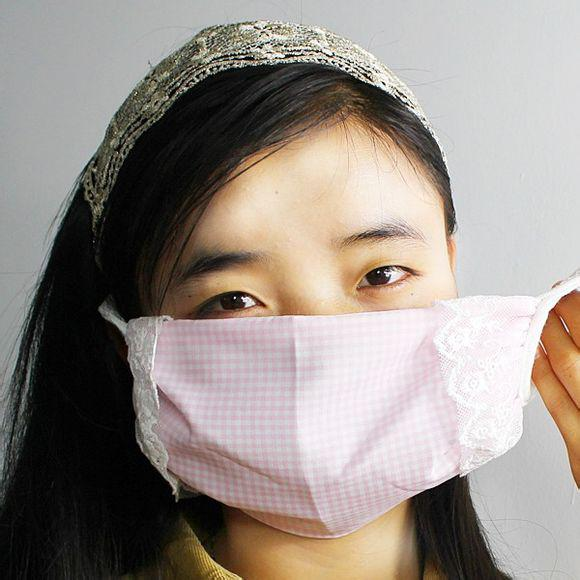OK: (150, 237, 461, 520)
